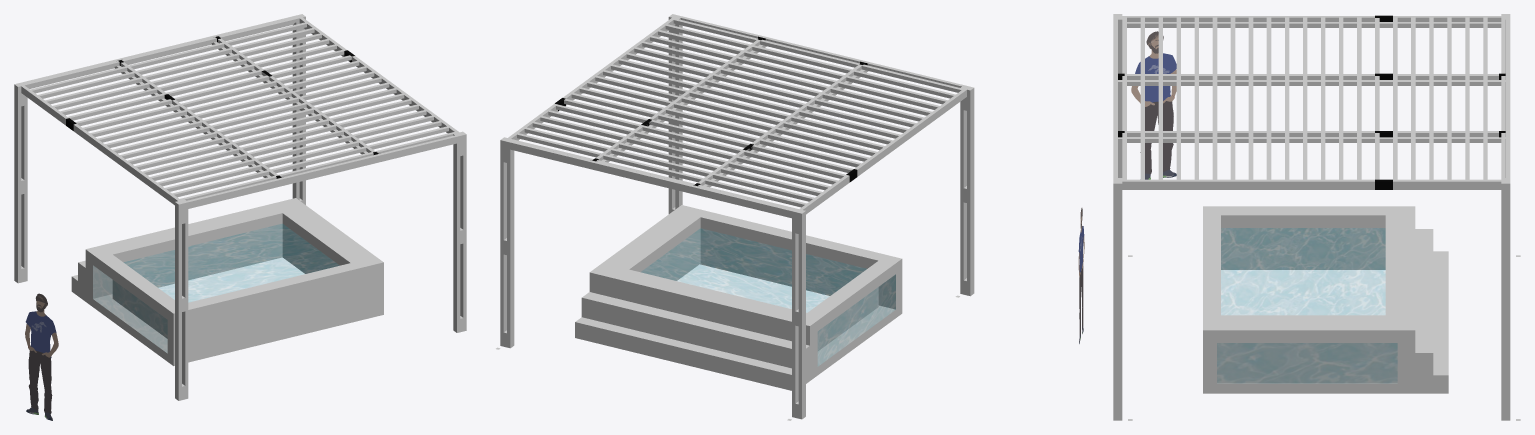
The model's file is SEBAobj.obj.
3 renders of one model, left to right at view 1: azimuth 30°, elevation 25°; view 2: azimuth 150°, elevation 25°; view 3: azimuth 270°, elevation 25°, orthographic. The views are drawn at different scales.
Parts seen in each view (by area): view 1: Mesh113 Model, Mesh112 Marc1 Model, Mesh80 Group80 Model, Mesh14 Group14 Model, Mesh79 Group79 Model, Mesh3 Group3 Model, Mesh1 Group1 Model, Mesh16 Group16 Model, Mesh81 Group81 Model, Mesh10 Group10 Model, Mesh7 Group7 Model, Mesh84 Group84 Model (+68 smaller); view 2: Mesh113 Model, Mesh81 Group81 Model, Mesh14 Group14 Model, Mesh3 Group3 Model, Mesh22 Group22 Model, Mesh20 Group20 Model, Mesh10 Group10 Model, Mesh1 Group1 Model, Mesh7 Group7 Model, Mesh80 Group80 Model, Mesh89 Group89 Model, Mesh84 Group84 Model (+47 smaller); view 3: Mesh113 Model, Mesh72 Group72 Model, Mesh112 Marc1 Model, Mesh16 Group16 Model, Mesh20 Group20 Model, Mesh84 Group84 Model, Mesh89 Group89 Model, Mesh82 Group82 Model, Mesh106 Group106 Model, Mesh94 Group94 Model, Mesh7 Group7 Model, Mesh78 Group78 Model (+4 smaller).
Part boxes in pixels (bbox=[...]): Mesh113 Model: bbox=[71, 198, 383, 365]; Mesh112 Marc1 Model: bbox=[25, 293, 58, 420]; Mesh80 Group80 Model: bbox=[187, 135, 456, 208]; Mesh14 Group14 Model: bbox=[14, 83, 21, 283]; Mesh79 Group79 Model: bbox=[453, 133, 460, 332]; Mesh3 Group3 Model: bbox=[175, 201, 181, 400]; Mesh1 Group1 Model: bbox=[182, 199, 188, 399]; Mesh16 Group16 Model: bbox=[460, 131, 466, 331]; Mesh81 Group81 Model: bbox=[24, 16, 294, 88]; Mesh10 Group10 Model: bbox=[21, 82, 27, 281]; Mesh7 Group7 Model: bbox=[73, 123, 185, 210]; Mesh84 Group84 Model: bbox=[218, 38, 375, 152]; Mesh113 Model: bbox=[575, 205, 902, 390]; Mesh81 Group81 Model: bbox=[510, 141, 793, 218]; Mesh14 Group14 Model: bbox=[798, 210, 805, 419]; Mesh3 Group3 Model: bbox=[967, 87, 974, 296]; Mesh22 Group22 Model: bbox=[507, 139, 514, 348]; Mesh20 Group20 Model: bbox=[500, 137, 506, 346]; Mesh10 Group10 Model: bbox=[792, 209, 798, 417]; Mesh1 Group1 Model: bbox=[960, 85, 966, 294]; Mesh7 Group7 Model: bbox=[854, 86, 970, 176]; Mesh80 Group80 Model: bbox=[680, 16, 963, 87]; Mesh89 Group89 Model: bbox=[697, 64, 862, 185]; Mesh84 Group84 Model: bbox=[596, 39, 760, 160]; Mesh113 Model: bbox=[1203, 206, 1448, 393]; Mesh72 Group72 Model: bbox=[1113, 179, 1374, 189]; Mesh112 Marc1 Model: bbox=[1131, 31, 1176, 179]; Mesh16 Group16 Model: bbox=[1113, 181, 1122, 420]; Mesh20 Group20 Model: bbox=[1501, 181, 1510, 420]; Mesh84 Group84 Model: bbox=[1124, 131, 1505, 136]; Mesh89 Group89 Model: bbox=[1124, 74, 1505, 79]; Mesh82 Group82 Model: bbox=[1118, 137, 1505, 142]; Mesh106 Group106 Model: bbox=[1118, 80, 1505, 85]; Mesh94 Group94 Model: bbox=[1127, 22, 1501, 27]; Mesh7 Group7 Model: bbox=[1113, 16, 1374, 21]; Mesh78 Group78 Model: bbox=[1393, 179, 1510, 189].
Size of the model in its own units: 252 by 114 by 178.
13 materials, 1 textured.
